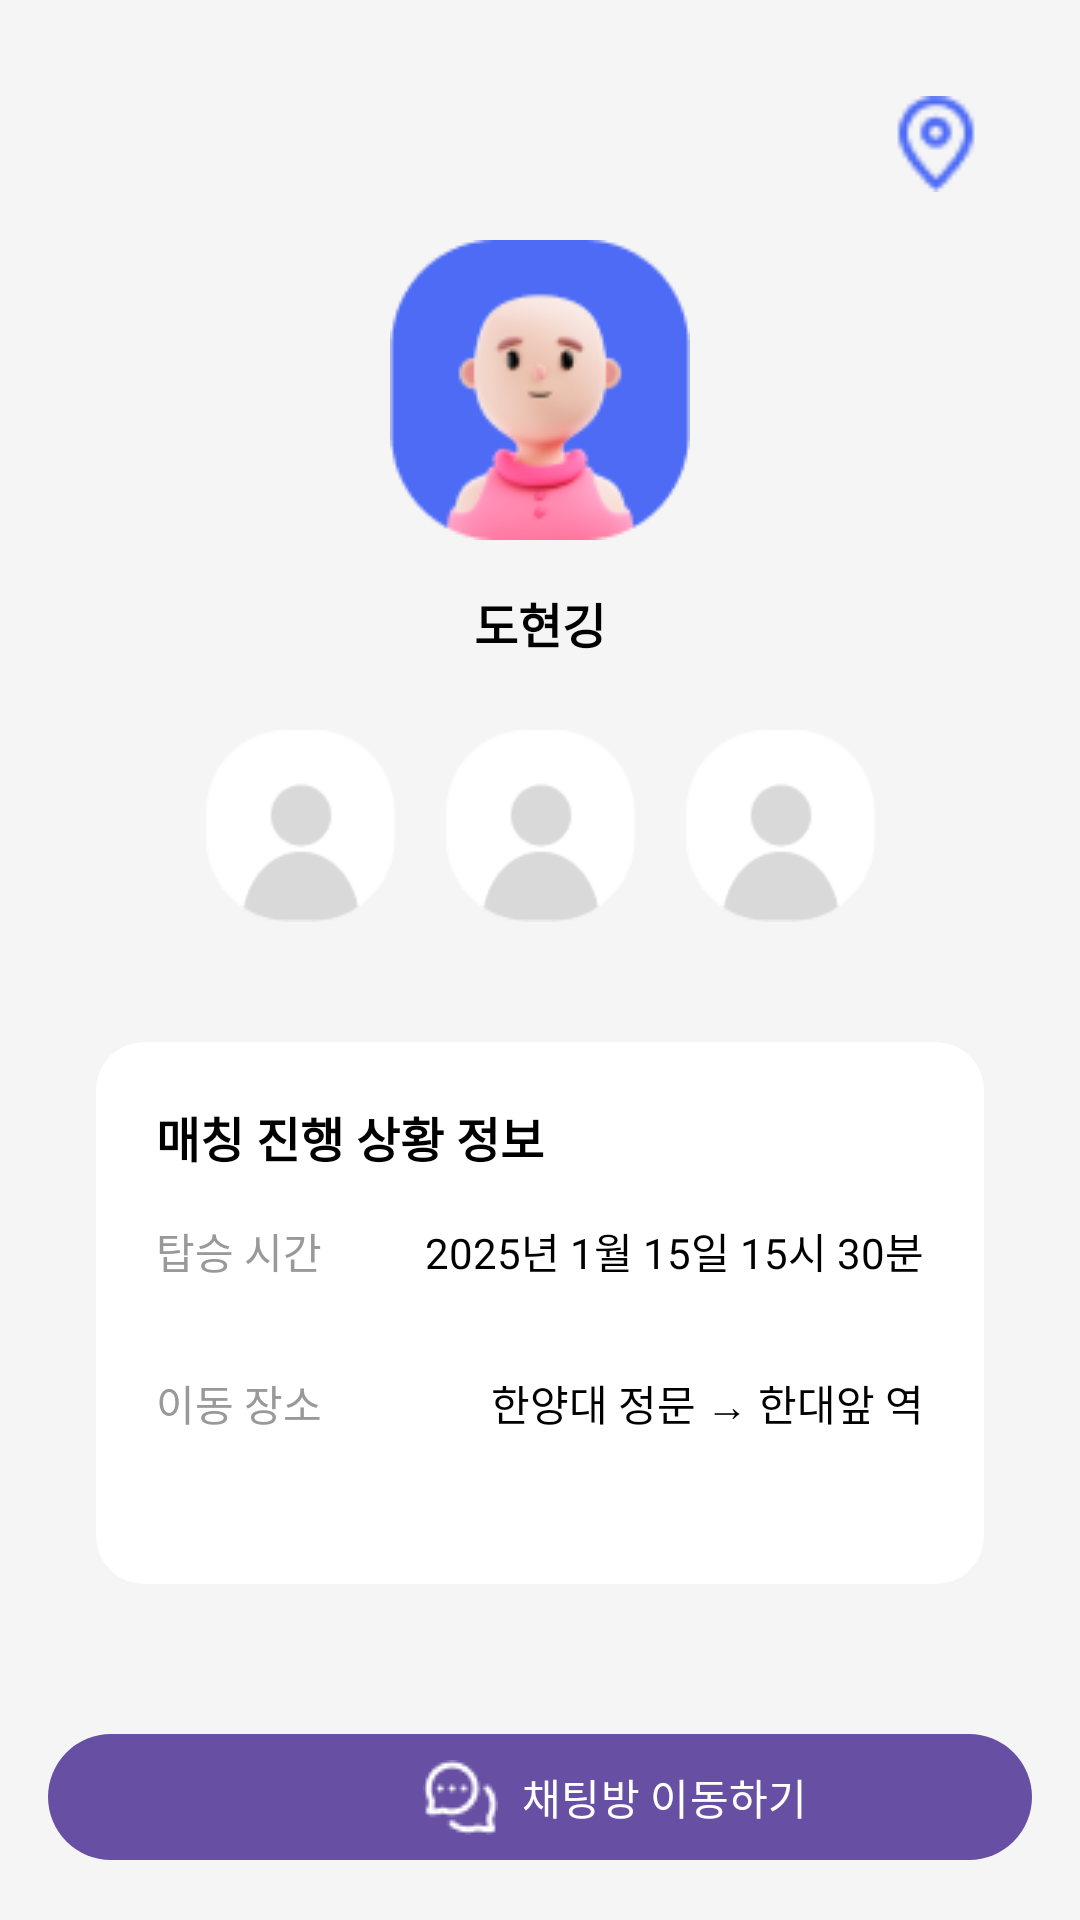

Icon bounding boxes for this 1080 x 1920 phone screenshot, format (x1, y1, x2, y2):
지도 아이콘: (897, 96, 975, 192)
프로필 이미지: (390, 240, 690, 540)
